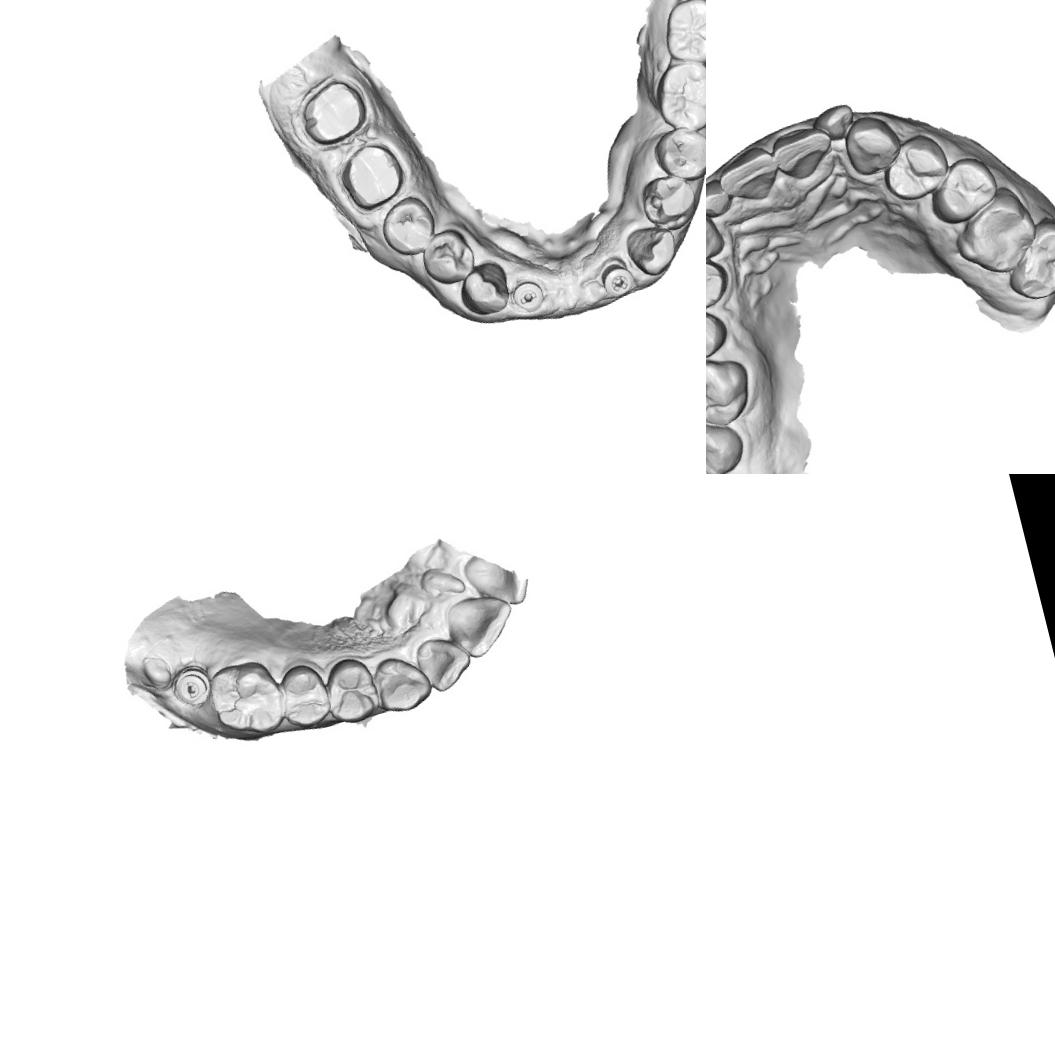canine: (366, 646, 438, 718), (836, 108, 906, 179), (618, 216, 684, 282), (452, 256, 516, 321), (706, 198, 729, 270)
crown: (291, 68, 377, 152), (332, 132, 412, 216)
implant_minus: (169, 658, 218, 712), (508, 272, 552, 320)
implant_plus: (593, 252, 641, 304)
incisor: (440, 585, 522, 664), (456, 541, 533, 617), (764, 118, 838, 185), (409, 626, 479, 696), (712, 143, 780, 203), (809, 99, 859, 144), (706, 171, 739, 223)
molar: (944, 179, 1048, 285), (200, 652, 294, 746), (992, 210, 1055, 308), (646, 52, 706, 138), (706, 347, 758, 439), (654, 0, 706, 69), (706, 399, 749, 474)
premolar: (921, 149, 1005, 231), (875, 126, 956, 208), (316, 648, 385, 729), (271, 656, 337, 734), (635, 166, 705, 237), (374, 191, 442, 263), (414, 222, 482, 290), (645, 117, 706, 188), (706, 247, 736, 319), (706, 300, 732, 369)
